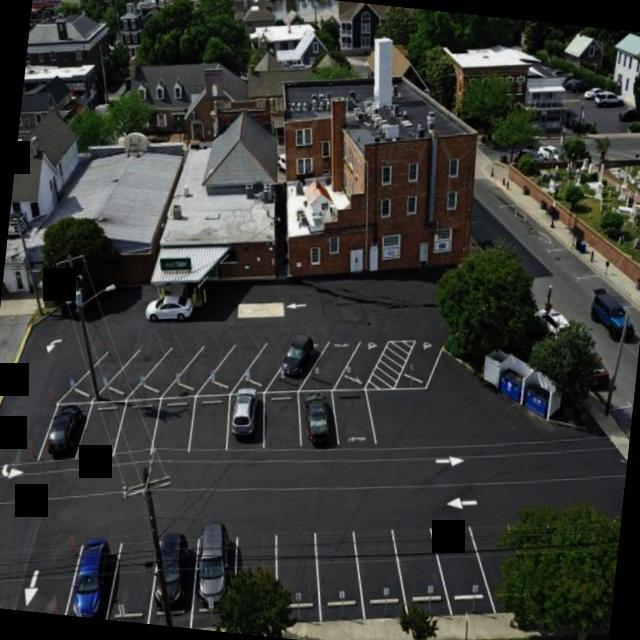space-empty: (342, 514, 421, 628), (266, 514, 337, 639), (305, 516, 380, 631), (431, 510, 505, 623), (220, 523, 292, 638), (387, 517, 460, 625), (101, 532, 174, 626), (69, 399, 134, 480), (255, 387, 309, 474), (181, 387, 237, 469), (148, 389, 201, 471), (112, 389, 165, 469), (326, 385, 381, 461), (303, 334, 363, 402), (340, 333, 392, 397), (397, 332, 450, 394), (217, 334, 271, 393), (179, 339, 231, 397), (244, 338, 292, 399), (113, 347, 165, 403), (73, 349, 127, 398), (152, 345, 194, 396)
space-occupied: (142, 522, 211, 629), (187, 529, 251, 634), (58, 534, 122, 620), (30, 392, 94, 476), (221, 382, 275, 467), (272, 328, 334, 402), (293, 378, 345, 466)
